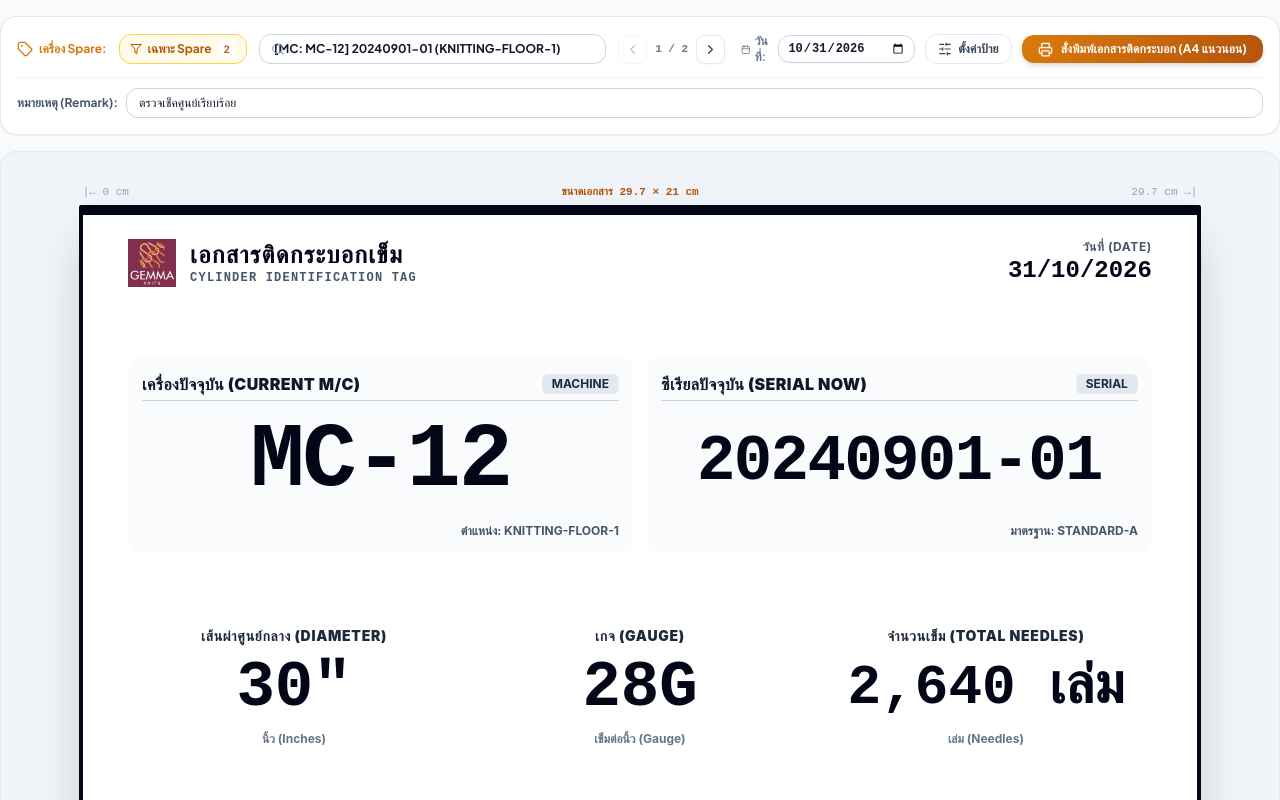
CylinderTagView Component (Customizable Tack Spare Tag) › allows switching cylinder via next and previous buttons
This screenshot has width=1280, height=800.
Click the button named "กระบอกถัดไป".
click(711, 49)  # box [696, 34, 725, 64]
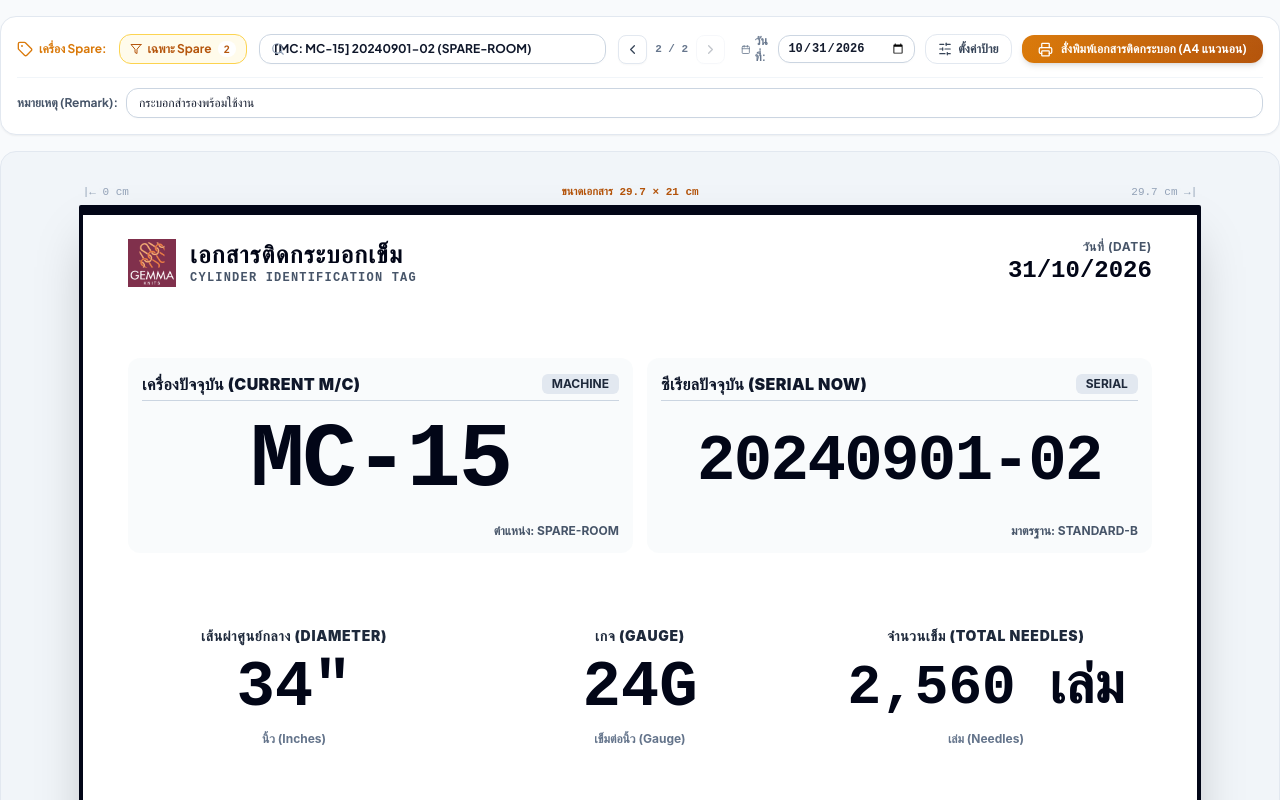
Now the text "MC-15" is shown, box [250, 410, 511, 512]
Now the text "20240901-02" is shown, box [697, 426, 1102, 498]
Now the text "34\"" is shown, box [236, 652, 352, 724]
# Click previous button to return to cyl-1
Click the button named "กระบอกก่อนหน้า".
click(633, 49)  # box [618, 34, 647, 64]
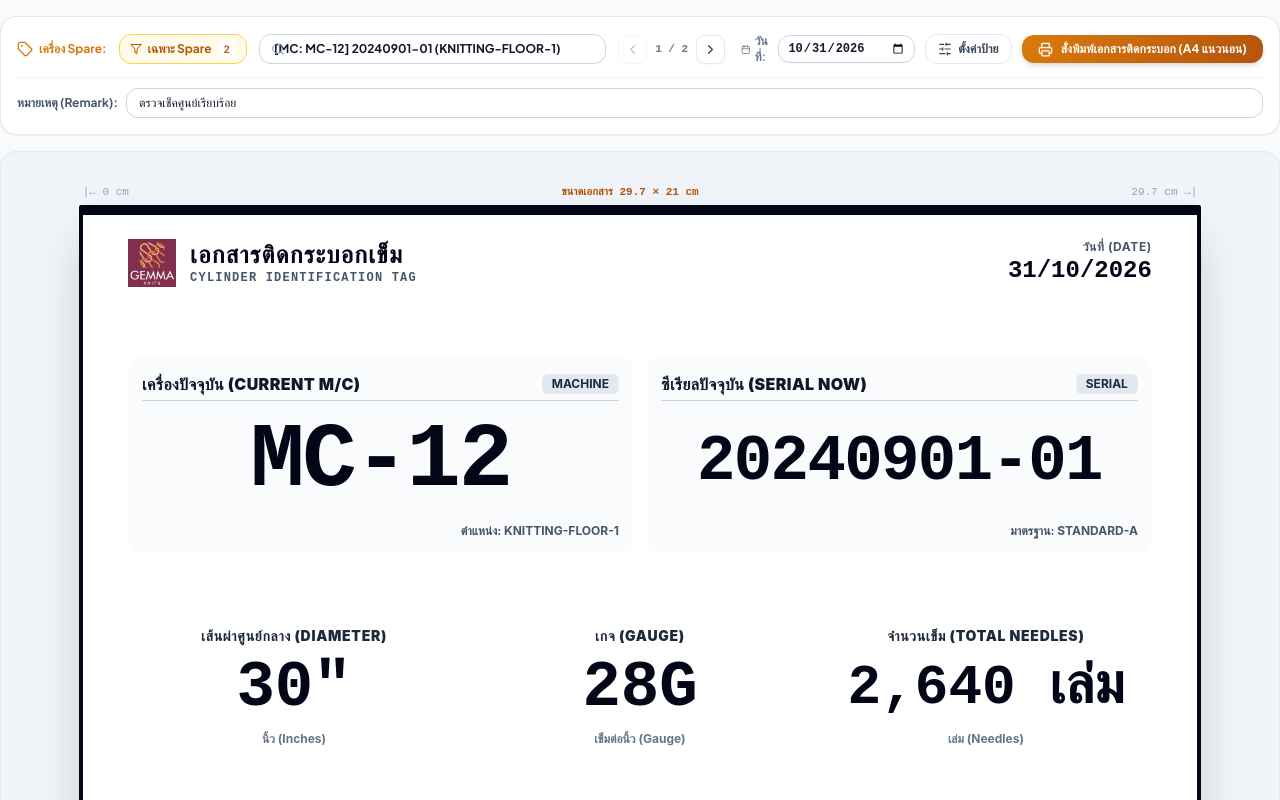
Now the text "MC-12" is shown, box [250, 410, 511, 512]
Now the text "20240901-01" is shown, box [697, 426, 1102, 498]
